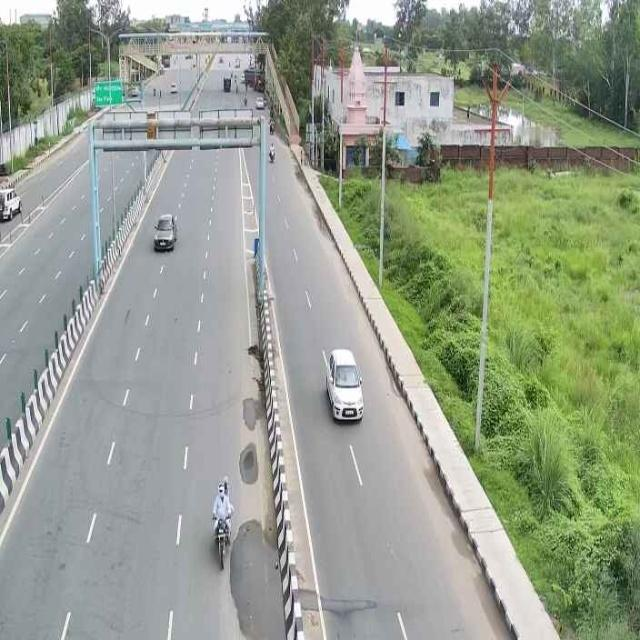car: (320, 344, 367, 424), (149, 208, 180, 254), (0, 179, 24, 220)
